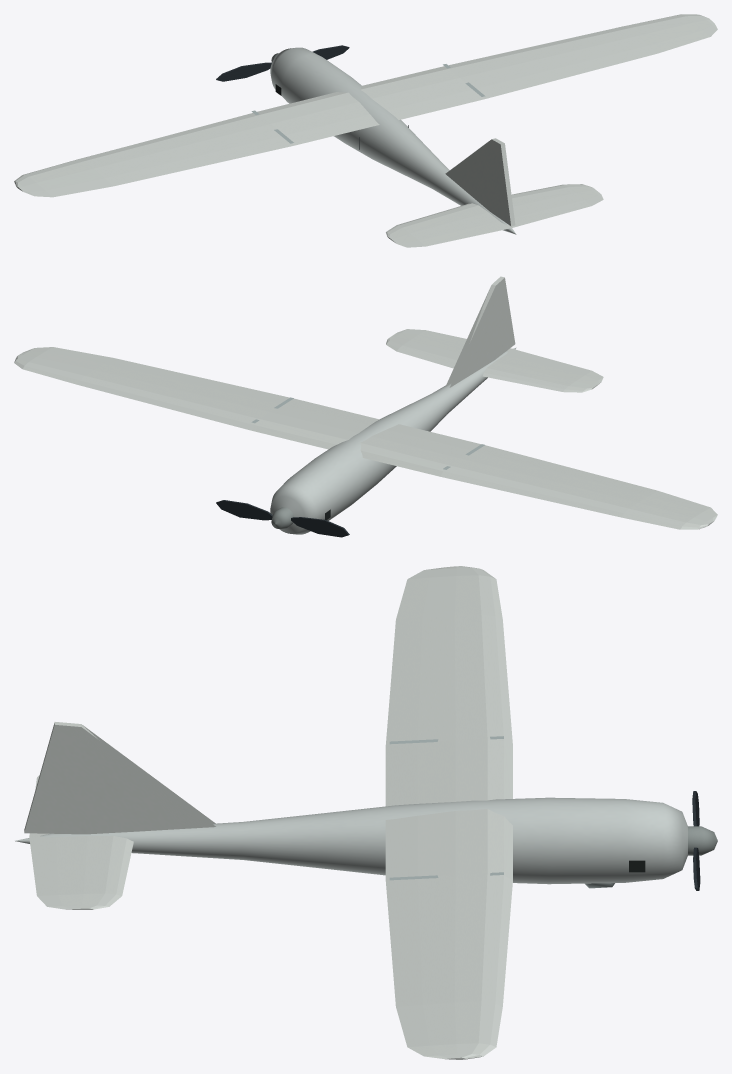
Rendered from orlan.obj.
The picture shows the model from 3 angles, top to bottom: view 1: azimuth 30°, elevation 25°; view 2: azimuth 150°, elevation 25°; view 3: azimuth 270°, elevation 25°; orthographic projection. The views are drawn at different scales.
Parts seen in each view (by area): view 1: main_wing, fuselage, tailplane, vertical_fin, propeller; view 2: main_wing, fuselage, tailplane, vertical_fin, propeller; view 3: main_wing, fuselage, vertical_fin, tailplane.
Part boxes in pixels (x1,y1,x2,y2): main_wing: (14,14,717,197); fuselage: (270,47,516,234); tailplane: (386,184,603,247); vertical_fin: (445,138,515,226); propeller: (216,45,349,81); main_wing: (14,347,717,529); fuselage: (270,347,516,534); tailplane: (386,329,603,392); vertical_fin: (445,276,515,387); propeller: (216,500,349,537); main_wing: (385,566,512,1059); fuselage: (15,797,687,884); vertical_fin: (24,722,215,834); tailplane: (29,775,133,909).
Bounding box in the file's own units: 9.14 × 1.42 × 5.53.
Materials: 1 (1 with a texture image).
